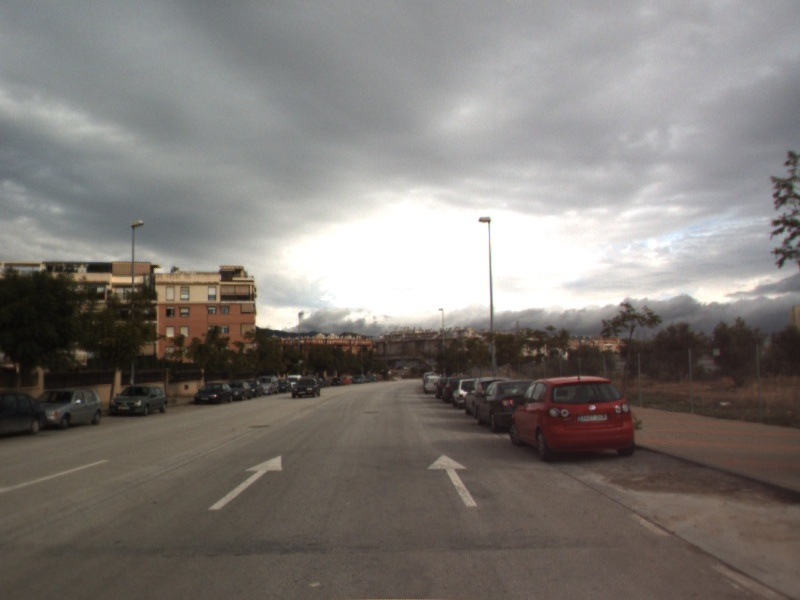STRAIGHT: (206, 453, 285, 512), (425, 452, 479, 508)
